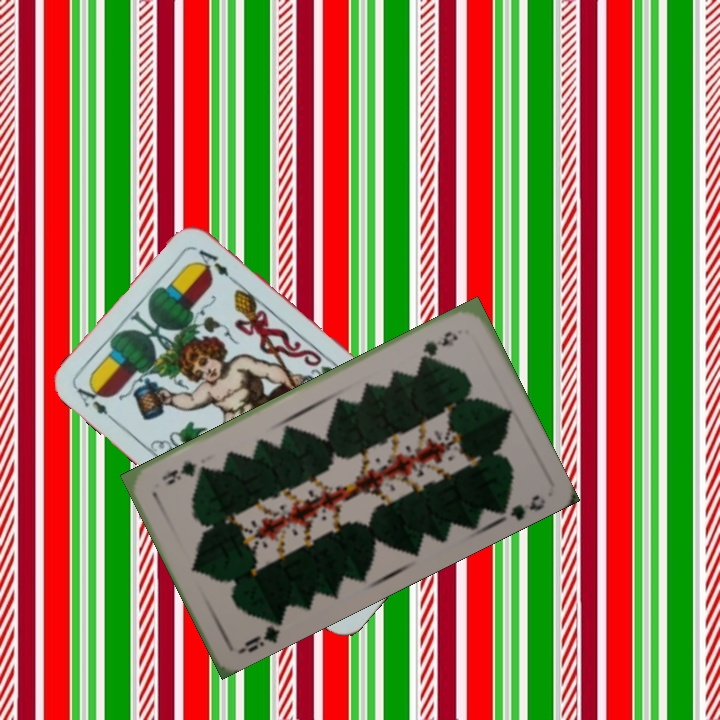EA: (72, 379, 121, 427)
G9: (235, 611, 286, 656), (416, 327, 460, 362)
